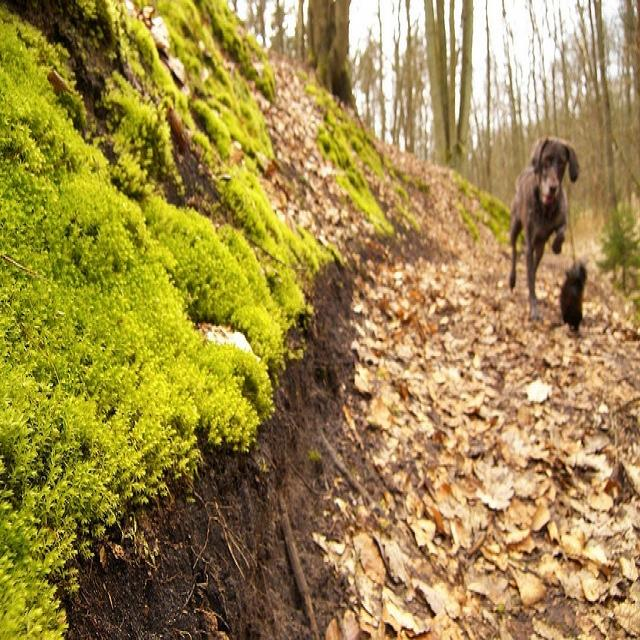dog: (509, 135, 576, 320)
